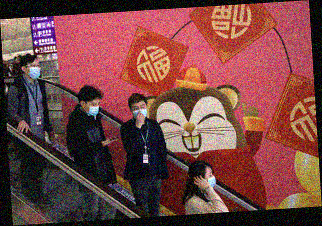with_mask: (24, 61, 42, 80), (132, 101, 149, 121), (84, 100, 102, 117), (204, 170, 217, 190)
